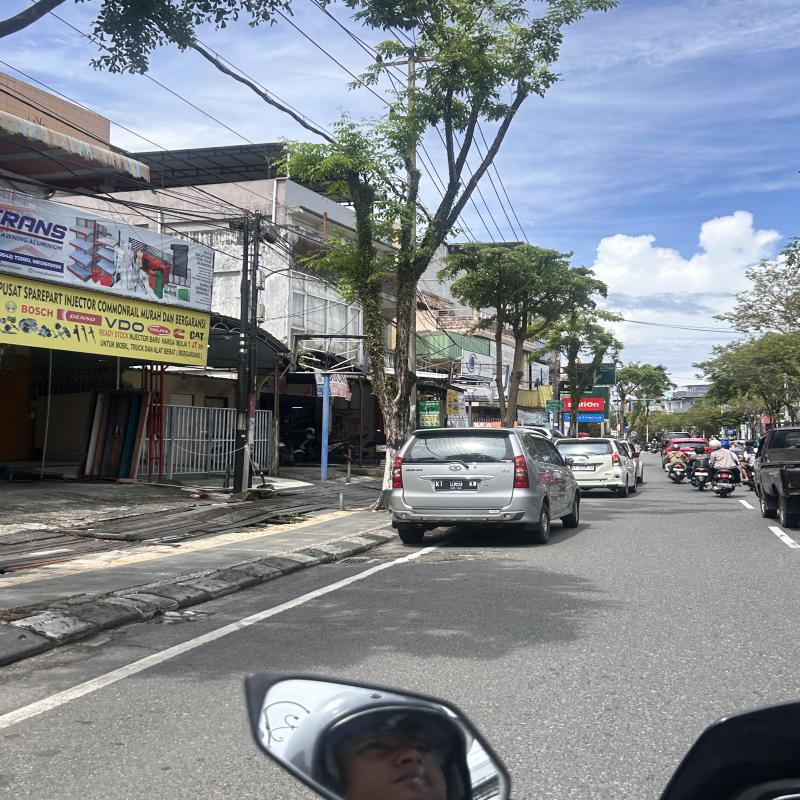license plate on a car: (435, 481, 477, 490), (571, 465, 595, 471)
